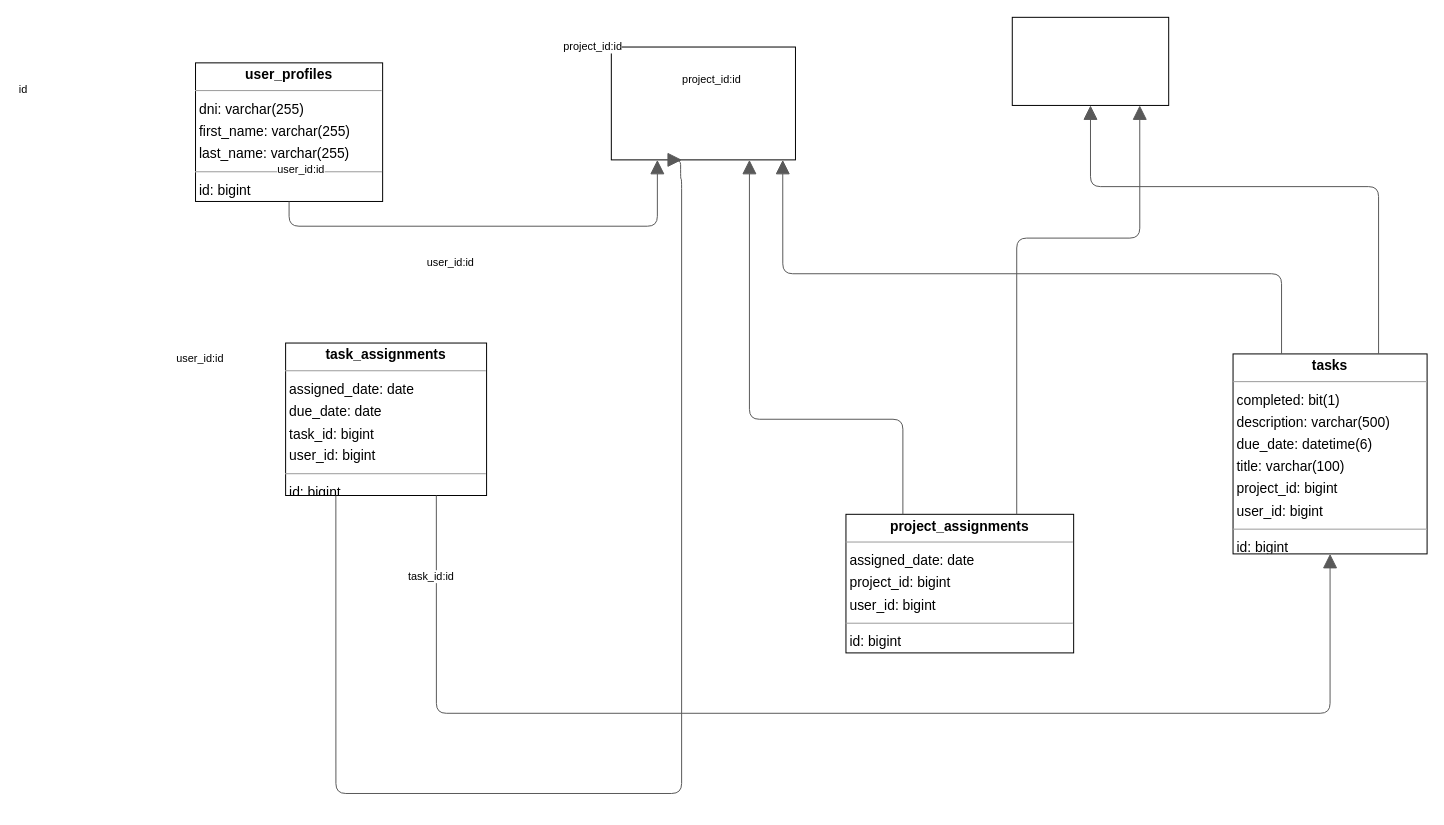
Image size: 1444x825. Some labels were removed from this diagram. The shapes that lost their labels are listed below. From the top down, each one's box as (x1, y1, x2, y2) in pixels, then its label:
(1011, 16, 1169, 105): projects name: varchar(255) id: bigint
(610, 46, 795, 160): users email: varchar(255) password: varchar(255) id: bigint
